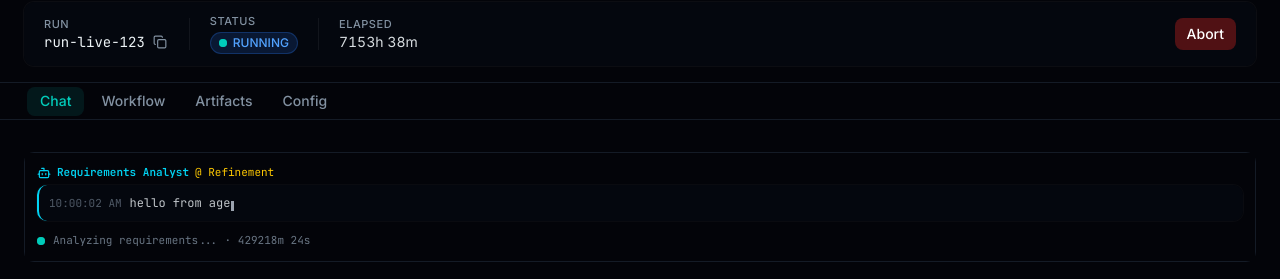
Test: RunDetailPage › shows "No artifacts available" when artifacts is null on the artifacts tab
This screenshot has width=1280, height=279.
Expected: the text "run-live-123" is shown, [44,32,145,52]
Click the tab "Artifacts" at point(224, 101), box [182,87,266,116]
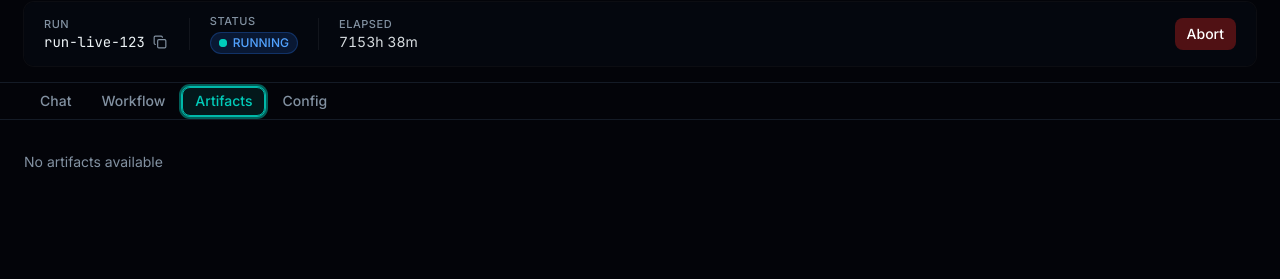
Now the text "No artifacts available" is shown, box [24,153,163,170]
